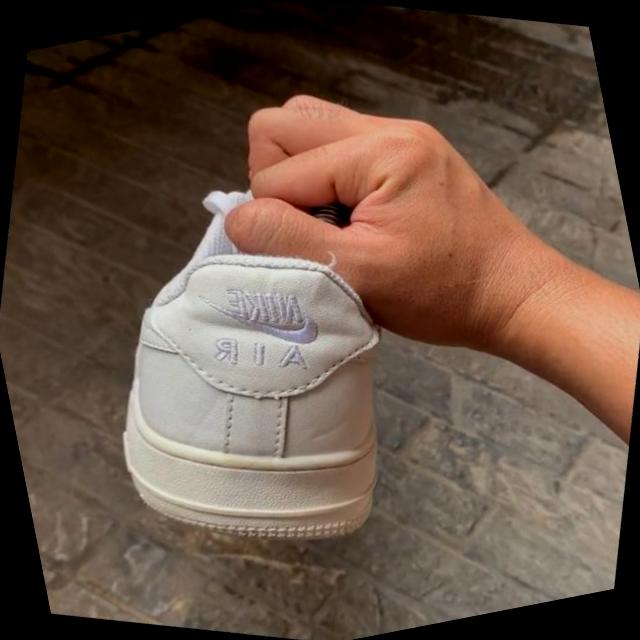nike_fake_airforce: (41, 139, 467, 606)
